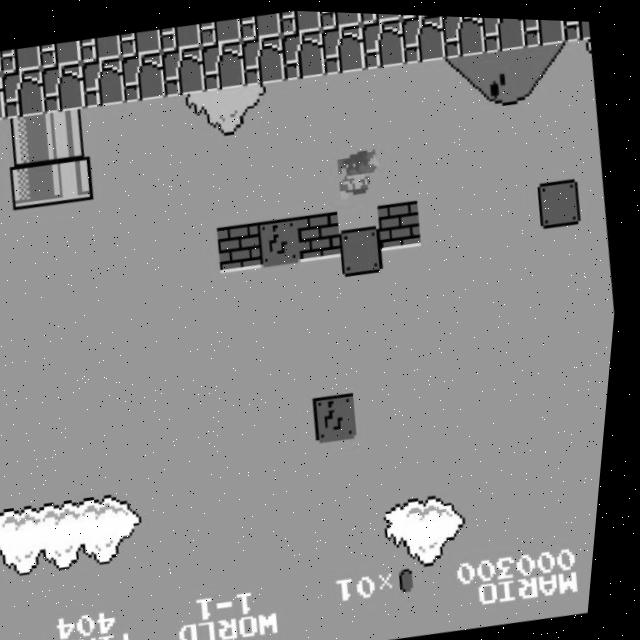1- brick_block: (377, 195, 429, 249), (297, 207, 349, 261), (218, 218, 269, 272)
11- little_mario: (335, 143, 390, 200)
13- mystery_block: (257, 213, 309, 266), (316, 389, 368, 441)
14- pipe: (44, 106, 95, 159), (4, 112, 55, 165)
15- pipe_head: (48, 151, 100, 205), (8, 157, 60, 211)
17- undestructible_block: (198, 37, 250, 91), (158, 43, 210, 97), (118, 49, 170, 103), (278, 26, 330, 79), (238, 32, 290, 85), (358, 14, 409, 67), (318, 20, 369, 73), (79, 55, 130, 108), (39, 61, 90, 114), (0, 66, 50, 120), (398, 12, 449, 62), (437, 13, 488, 56), (478, 14, 528, 50), (78, 32, 124, 64), (38, 38, 84, 70), (517, 15, 567, 44), (237, 9, 283, 40), (197, 15, 243, 46), (157, 21, 203, 52), (118, 27, 164, 58), (0, 44, 44, 75), (277, 8, 323, 34), (317, 9, 362, 29), (556, 16, 591, 39), (356, 10, 401, 23), (0, 73, 10, 125)
3- empty_block: (536, 172, 588, 225)
